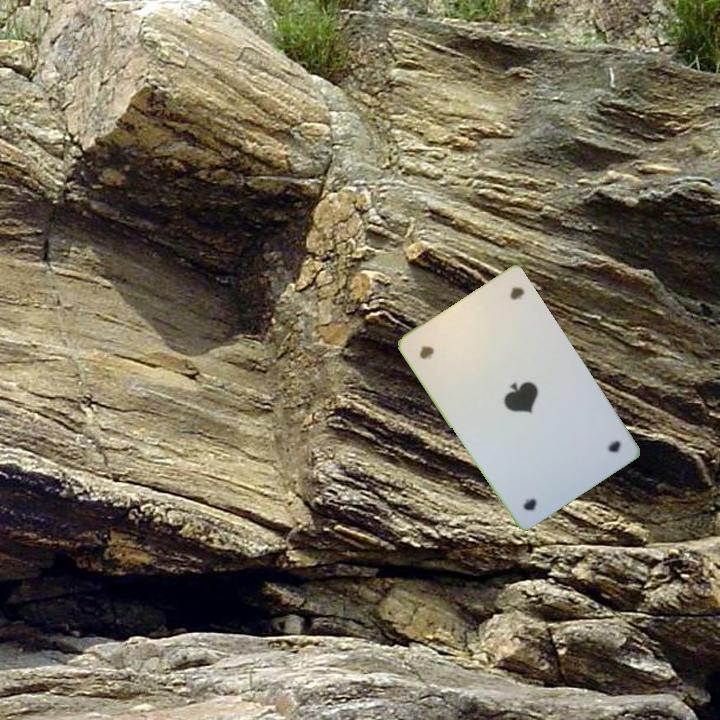s_a.png: (543, 403, 629, 486), (408, 309, 493, 392)
